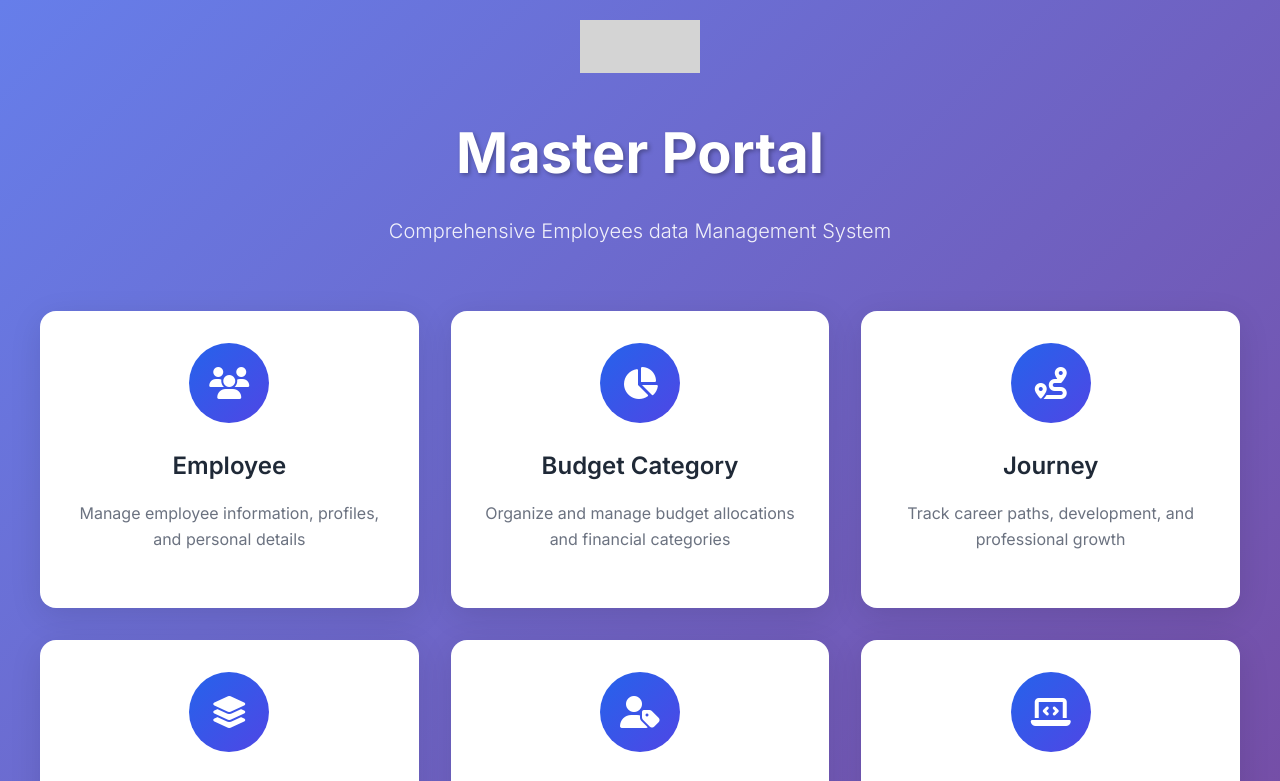
it: Master Portal - Budget Category Management › should navigate to Budget Category Management
Click the text "Budget" at (641, 460), box [451,311,830,609]
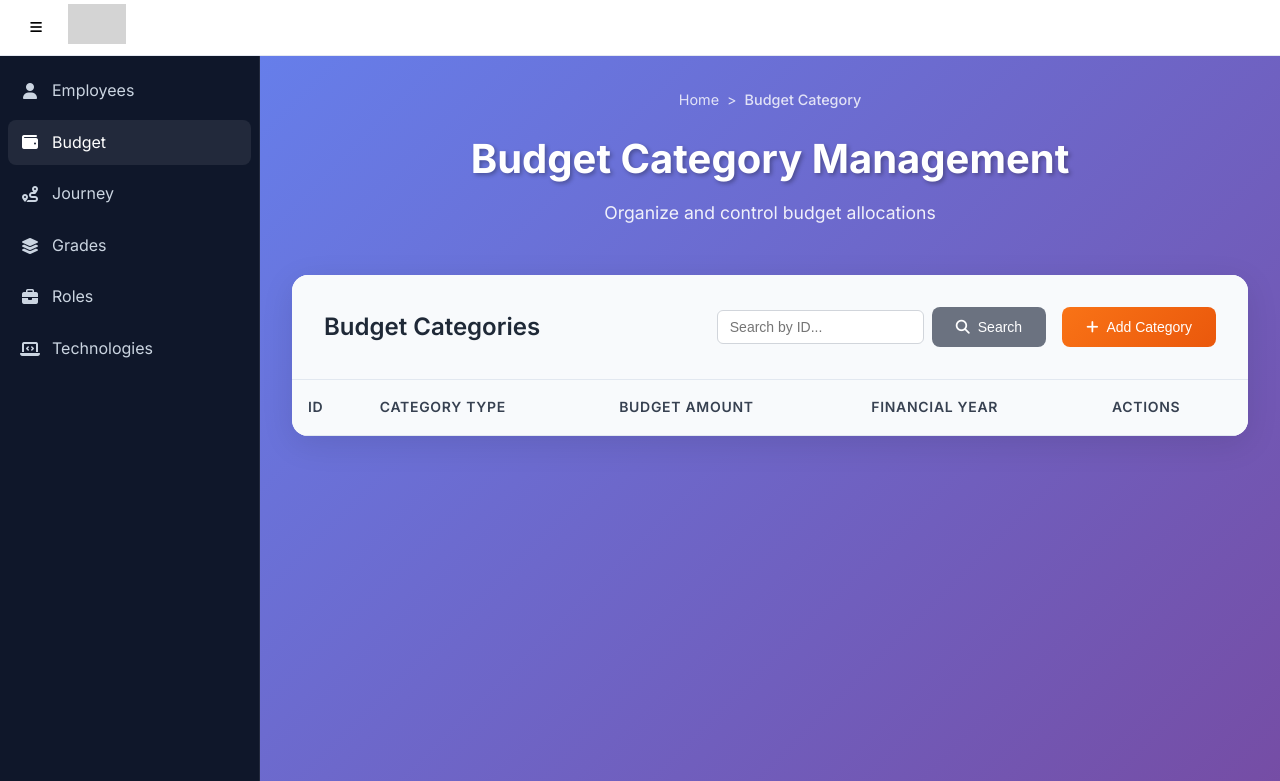
Now the heading "Budget Category Management" is shown, box [471,134,1069,183]
